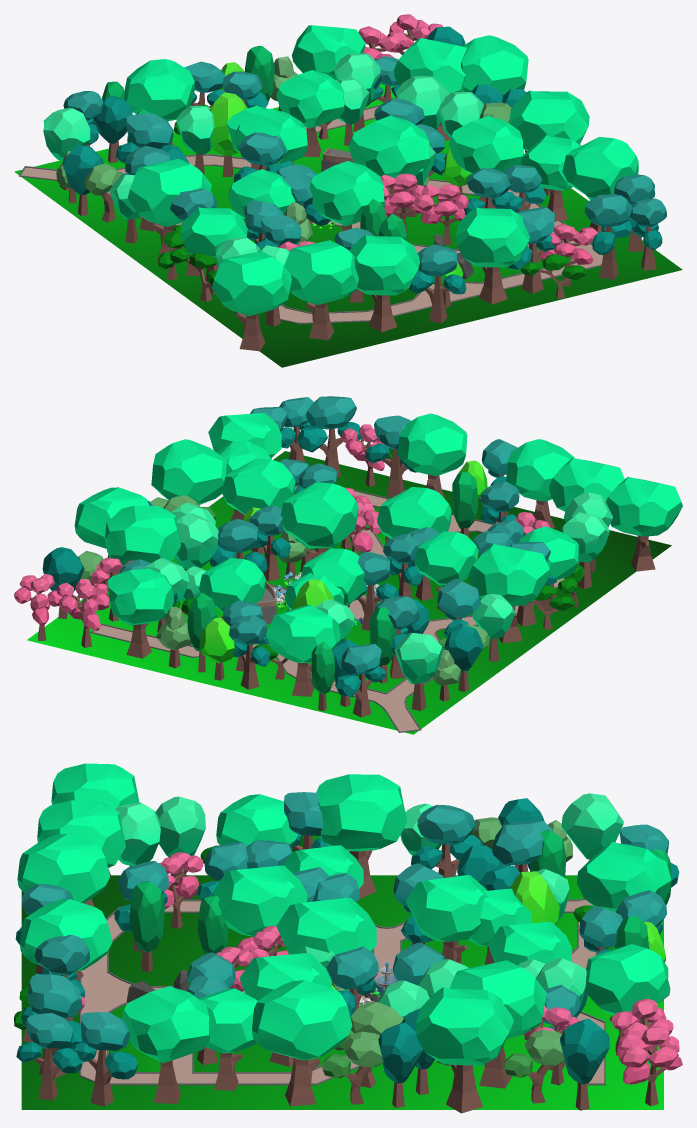
File: Taman.fbx
The picture shows the model from 3 angles, top to bottom: view 1: azimuth 30°, elevation 25°; view 2: azimuth 150°, elevation 25°; view 3: azimuth 270°, elevation 25°; orthographic projection. The views are drawn at different scales.
Parts seen in each view (by area): view 1: Plane.004, tree oak.017, tree oak.014, tree oak.012, tree oak.018, tree oak.004, Plane.054, tree oak.019, tree oak.007, tree oak.020, tree oak.022, tree oak.005 (+62 smaller); view 2: Plane.004, tree oak.004, tree oak.017, tree oak.019, tree oak.020, tree oak.021, tree oak.016, Plane.054, tree oak.012, tree oak.015, tree oak.018, tree oak.005 (+59 smaller); view 3: Plane.004, tree oak.020, tree oak.024, Plane.054, tree oak.019, tree oak.022, tree oak.007, tree oak.016, tree oak.009, tree oak.004, tree oak.018, tree oak.021 (+66 smaller).
Boxes of the visible parts, <box> form: Plane.004: <box>14,83,682,367</box>; tree oak.017: <box>212,251,291,351</box>; tree oak.014: <box>284,240,358,340</box>; tree oak.012: <box>456,207,529,304</box>; tree oak.018: <box>349,235,420,332</box>; tree oak.004: <box>348,115,430,218</box>; Plane.054: <box>21,107,602,322</box>; tree oak.019: <box>127,158,211,263</box>; tree oak.007: <box>309,161,384,231</box>; tree oak.020: <box>509,90,589,195</box>; tree oak.022: <box>562,136,638,232</box>; tree oak.005: <box>449,116,523,208</box>; Plane.004: <box>27,451,671,734</box>; tree oak.004: <box>280,482,358,558</box>; tree oak.017: <box>606,477,682,571</box>; tree oak.019: <box>468,544,550,643</box>; tree oak.020: <box>151,439,226,504</box>; tree oak.021: <box>105,505,180,565</box>; tree oak.016: <box>108,568,173,658</box>; Plane.054: <box>93,485,564,731</box>; tree oak.012: <box>397,413,467,499</box>; tree oak.015: <box>266,605,340,696</box>; tree oak.018: <box>506,439,574,528</box>; tree oak.005: <box>222,458,295,552</box>; Plane.004: <box>21,875,663,1109</box>; tree oak.020: <box>252,980,352,1106</box>; tree oak.024: <box>415,987,513,1113</box>; Plane.054: <box>81,899,604,1083</box>; tree oak.019: <box>316,774,407,899</box>; tree oak.022: <box>121,986,209,1104</box>; tree oak.007: <box>213,865,307,967</box>; tree oak.016: <box>584,944,670,1055</box>; tree oak.009: <box>406,875,488,964</box>; tree oak.004: <box>276,898,376,954</box>; tree oak.018: <box>17,834,109,903</box>; tree oak.021: <box>449,960,546,1088</box>.
Size of the model in its own units: 5465 by 1106 by 5768.
Materials: 3 (3 with a texture image).
